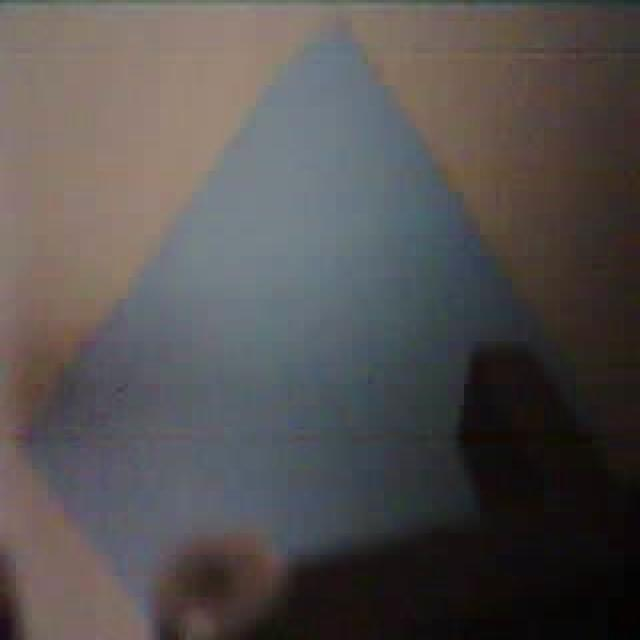blue_box: (16, 8, 587, 621)
